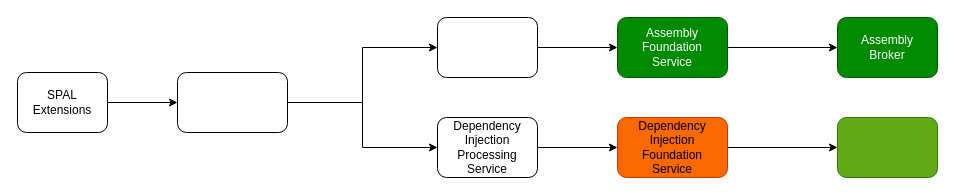
Some shapes in this 955 by 195 pixel diagram are drawn without their labels. The centre of each missing label's shape, as x and y in pixels:
Assembly Processing Service: point (487, 47)
Dependency Injection Broker: point (887, 147)
SPAL Orchestration Service: point (232, 102)
